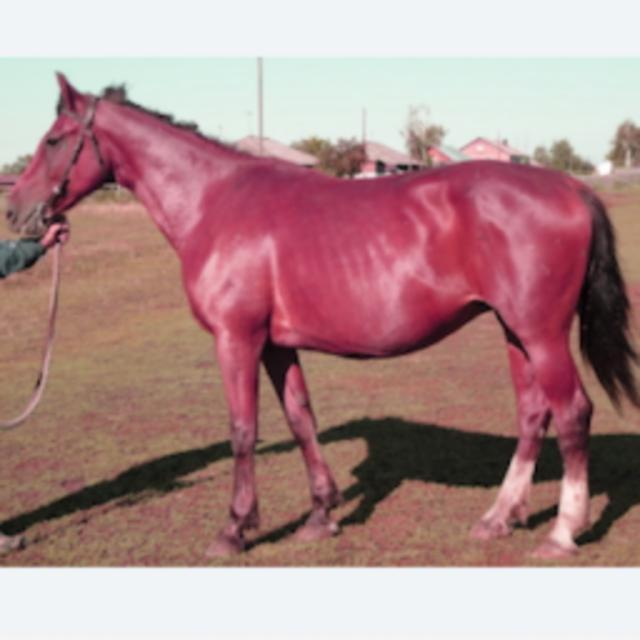Horse: (2, 65, 640, 560)
